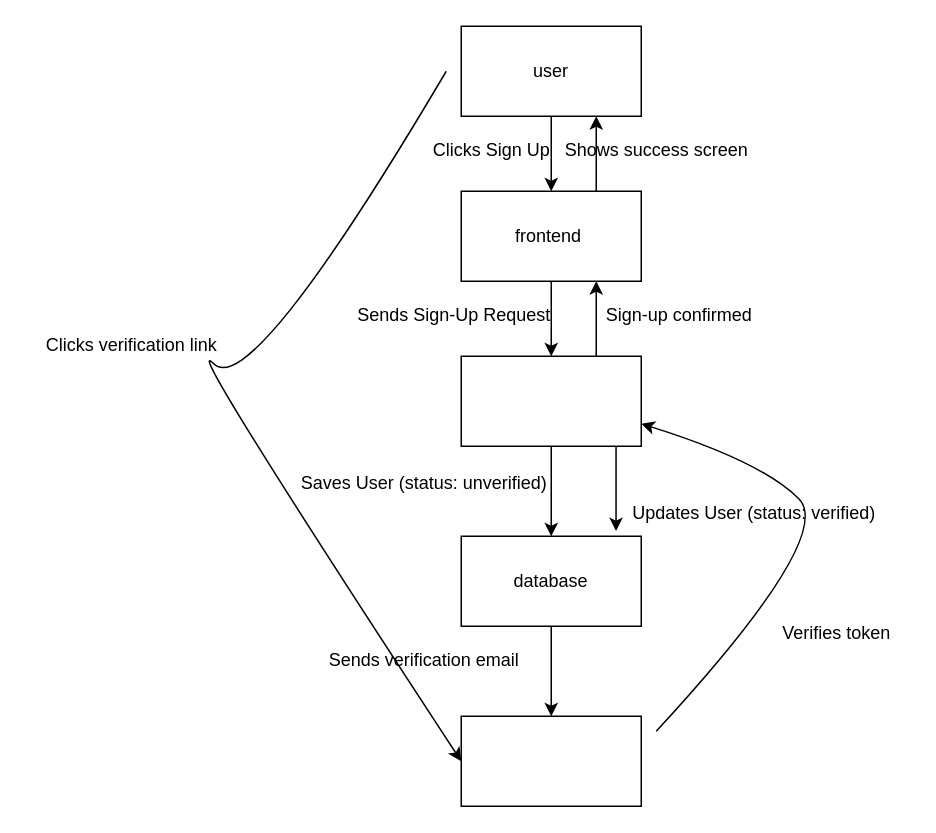
Image size: 936x833. Some labels were removed from this diagram. The shapes that lost their labels are listed below. From the top down, each one's centre as x and y in pixels, then its label:
At point (550, 400): "backend".
At point (550, 760): "email_service".
